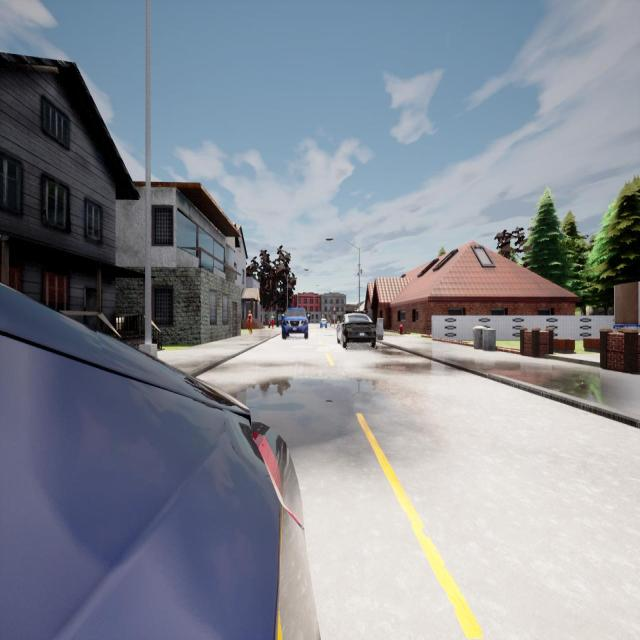Pedestrian: (247, 310, 253, 334), (271, 314, 274, 329)
Vehicle: (0, 285, 319, 638), (336, 313, 376, 347), (282, 309, 308, 339), (321, 319, 326, 329)
traffic_light: (334, 309, 335, 315)
